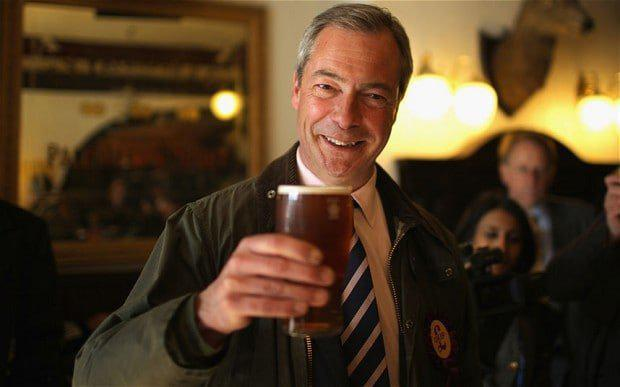Drunk: (305, 30, 394, 174)
